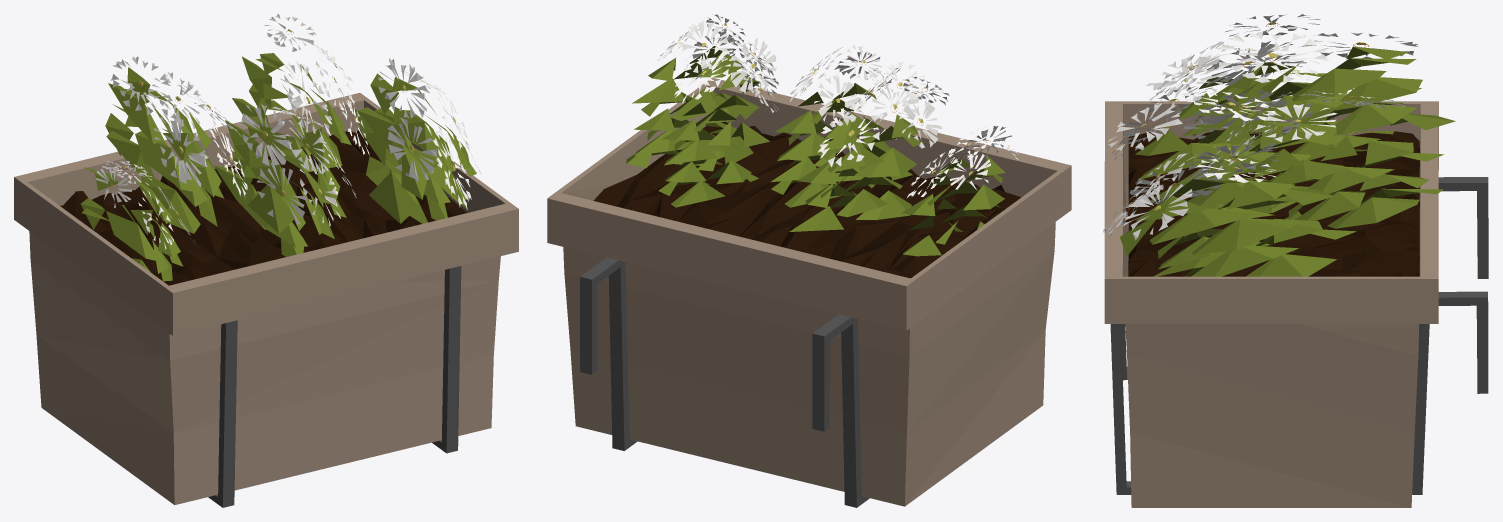
File: sh-bs0-flower-box.glb
The picture shows the model from 3 angles, left to right: view 1: azimuth 30°, elevation 25°; view 2: azimuth 150°, elevation 25°; view 3: azimuth 270°, elevation 25°; orthographic projection. The views are drawn at different scales.
Parts seen in each view (by area): view 1: Cube.309_Cube.303; view 2: Cube.309_Cube.303; view 3: Cube.309_Cube.303.
Part boxes in pixels (box(x1,y1,x2,y2)): Cube.309_Cube.303: box(14, 14, 518, 507); Cube.309_Cube.303: box(547, 14, 1071, 507); Cube.309_Cube.303: box(1103, 14, 1488, 507).
Size of the model in its own units: 1 by 1 by 0.9249.
